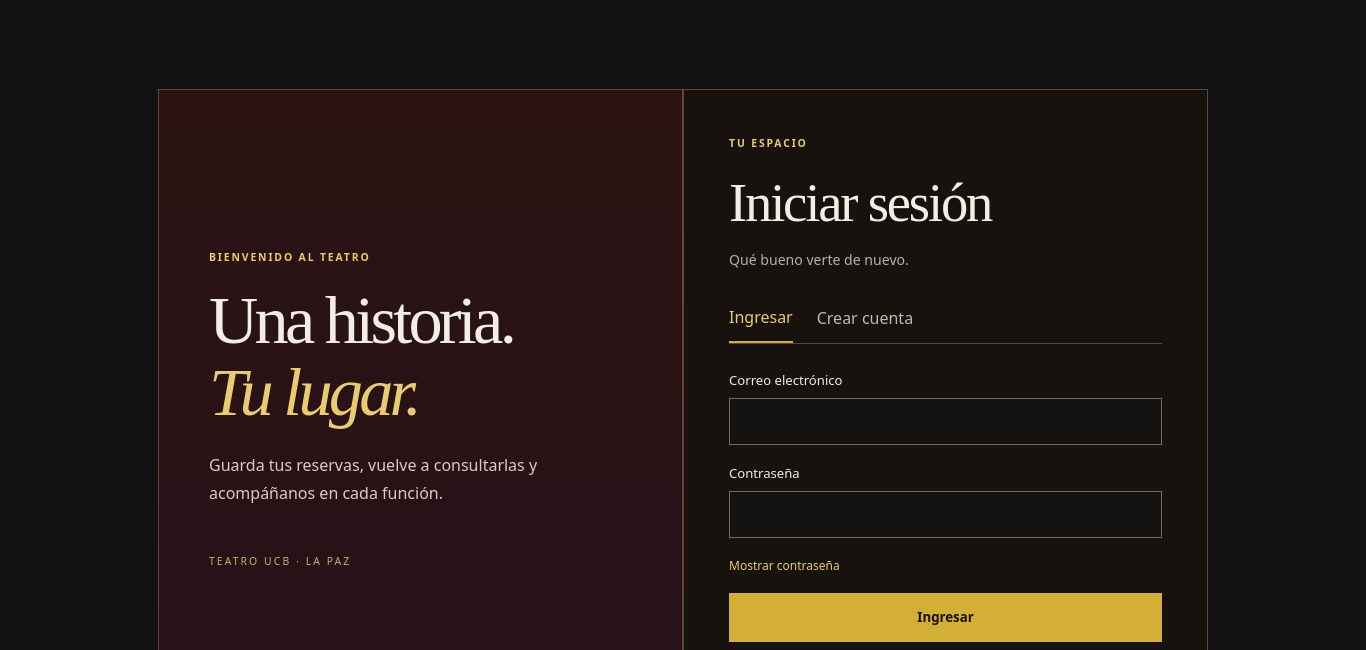
el formulario impide registrar contraseñas distintas
The image size is (1366, 650).
Expected: the heading "Iniciar sesión" is shown, [729,172,991,233]
Step 1. Click the button "Crear cuenta" → coordinates (865, 319), box [817,295,913,343]
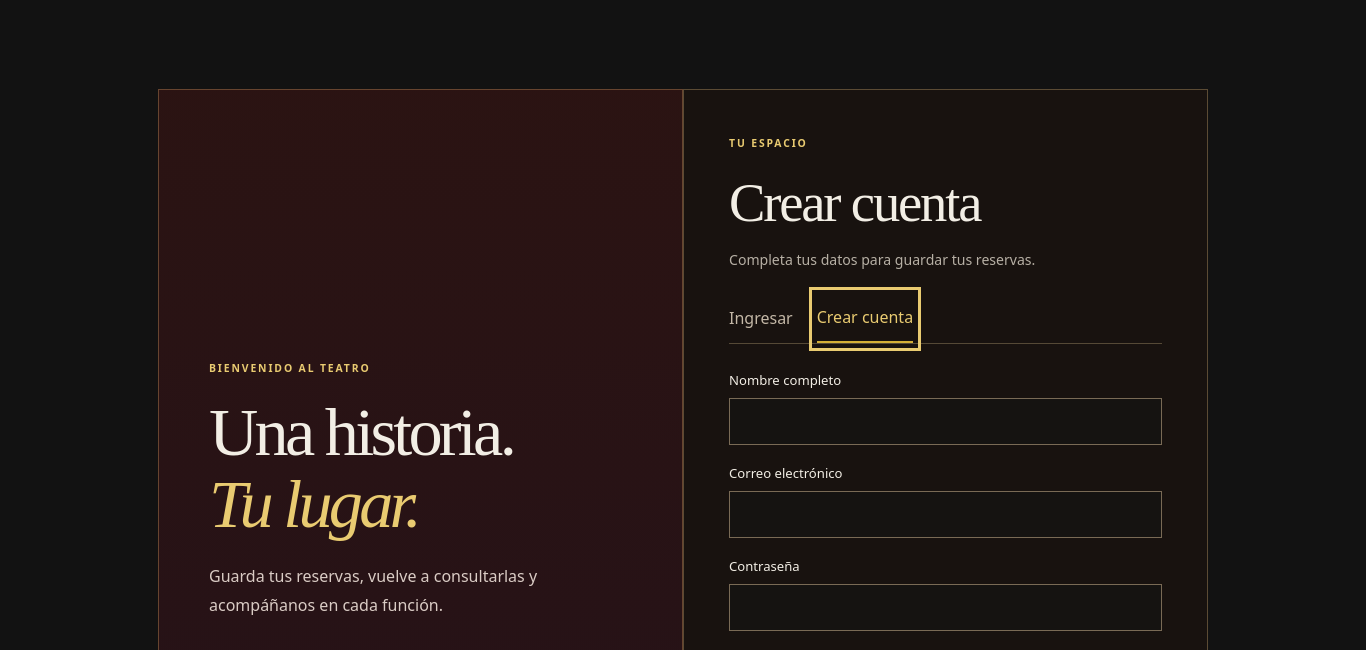
Step 2. Type "Ana Perez" into the field labelled "Nombre completo" → coordinates (946, 421), box [729,398,1162,445]
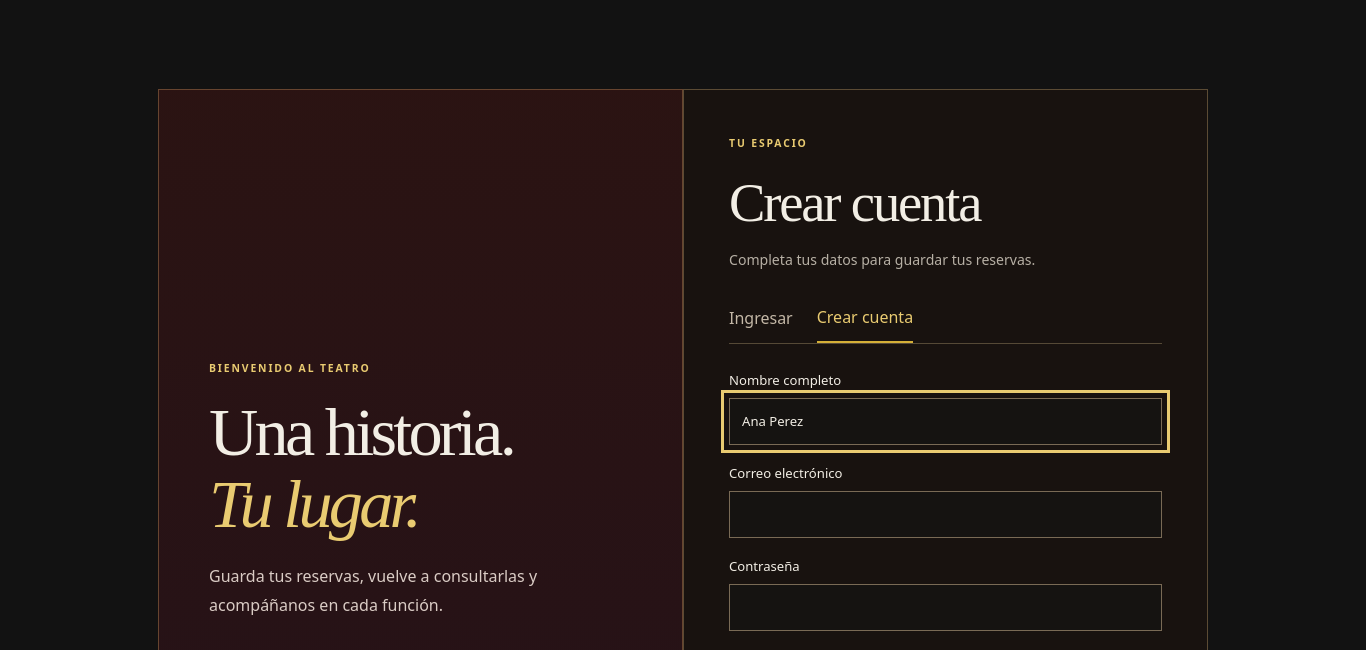
Step 3. Type "ana@example.com" into the field labelled "Correo electrónico" → coordinates (946, 514), box [729,491,1162,538]
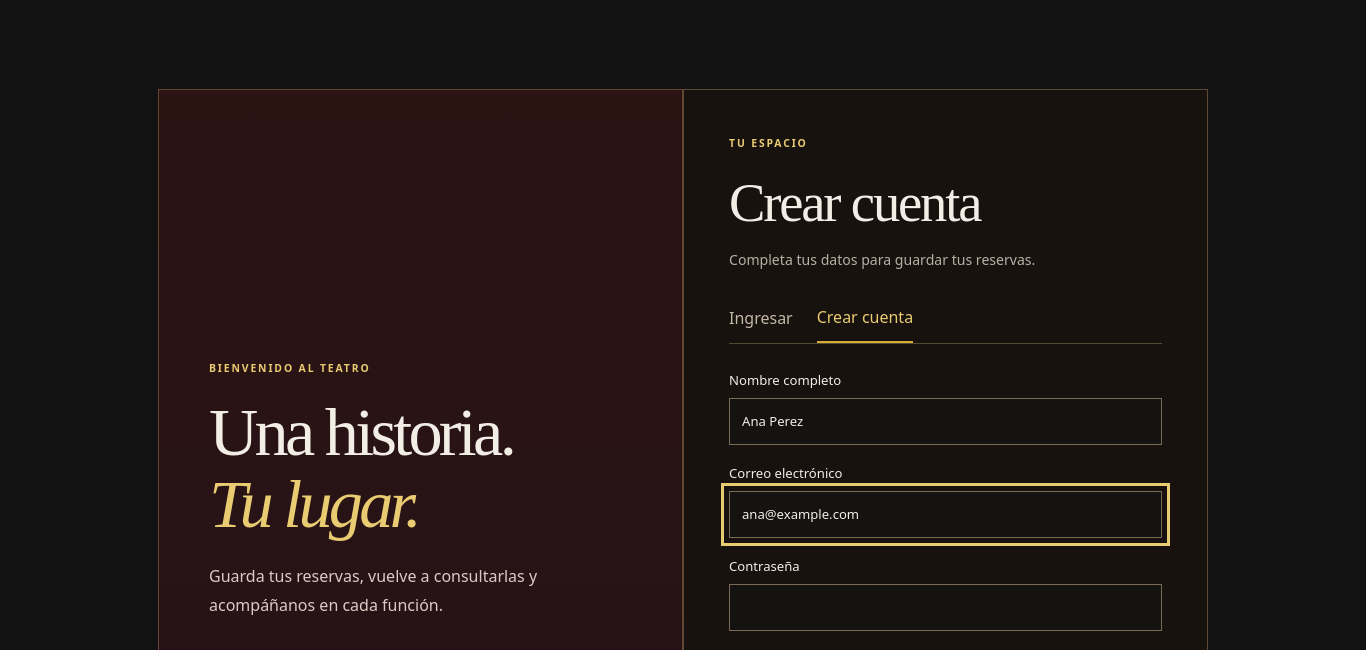
Step 4. Type "ClaveSegura12" into the password field labelled "Contraseña" → coordinates (946, 607), box [729,584,1162,631]
(page scrolled)
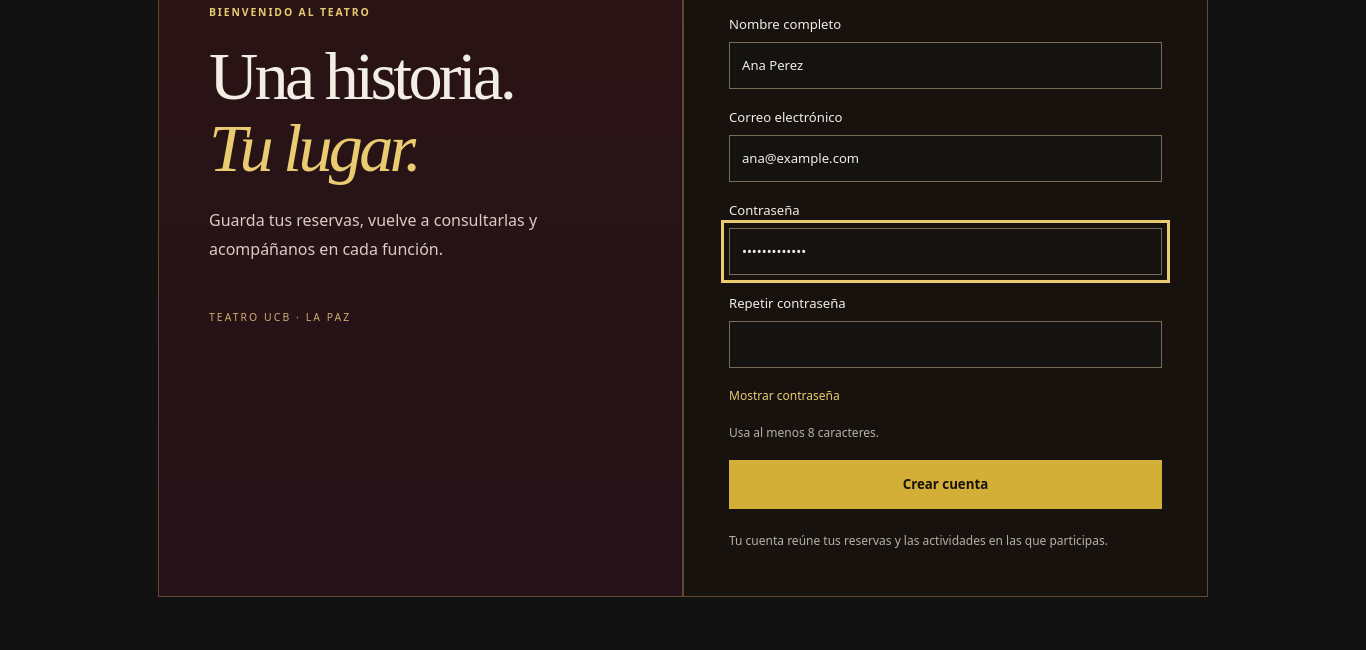
Step 5. Type "OtraClave123" into the password field labelled "Repetir contraseña" → coordinates (946, 344), box [729,321,1162,368]
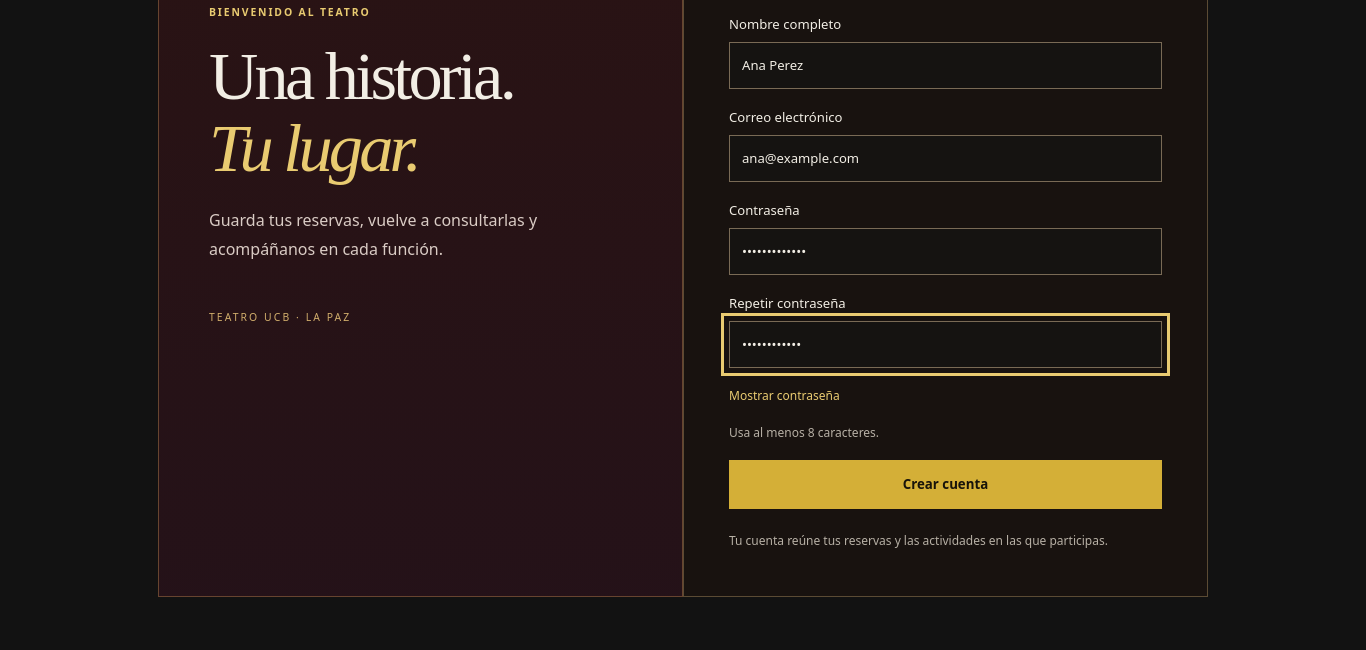
Step 6. Click the button "Crear cuenta" below "Usa al menos 8 caracteres." → coordinates (946, 485), box [729,460,1162,510]
(page scrolled)
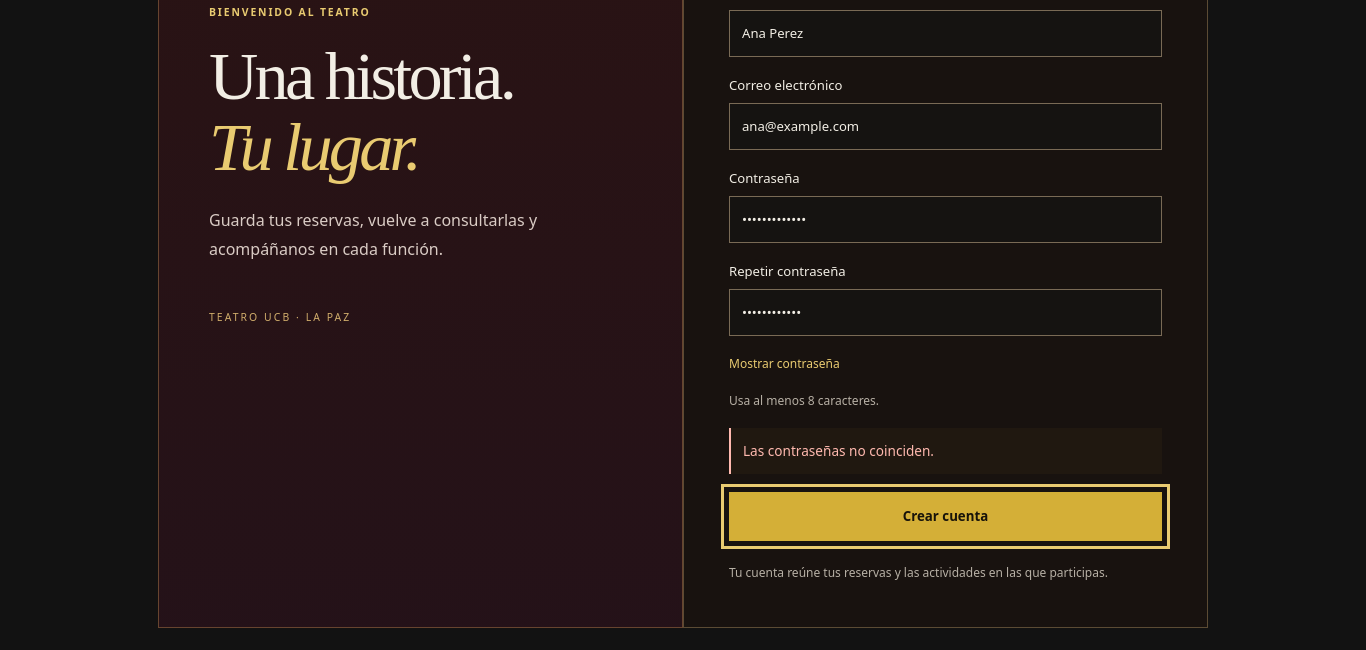
Now the message shows "no coinciden", box [743,441,934,460]
